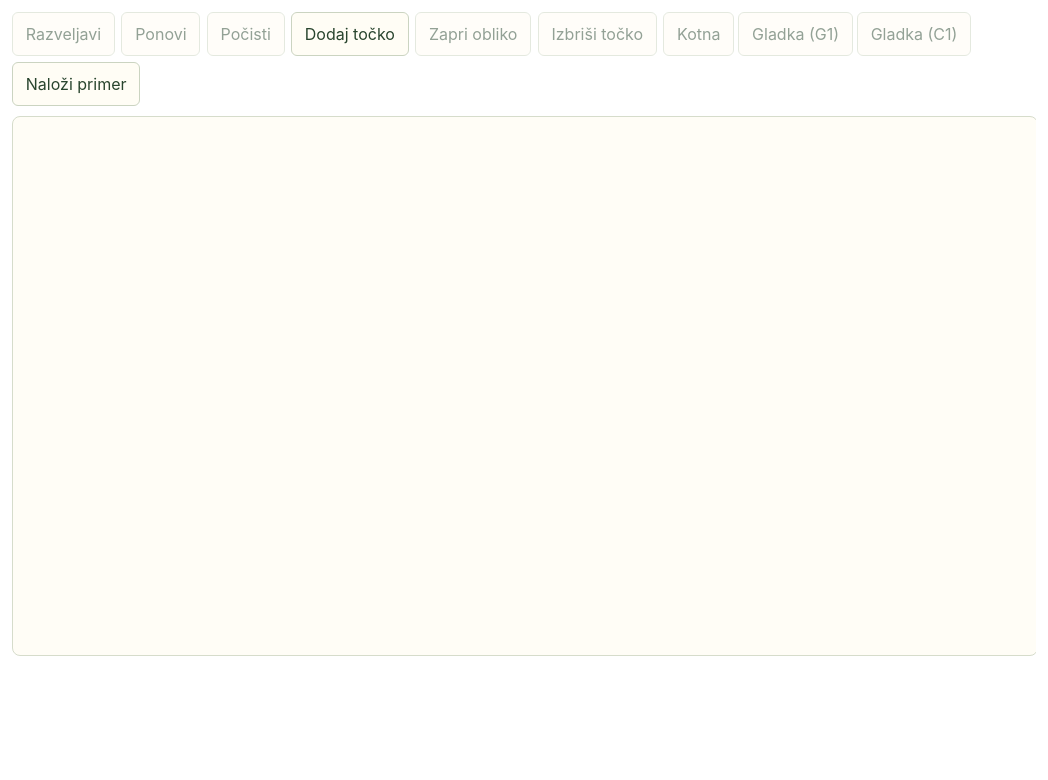
Scenario: localization › updates names, toolbar and live region when the language switches
Press the mouse on the icon named "Platno za risanje oblike" at (524, 386), box x1=12 y1=116 x2=1036 y2=656
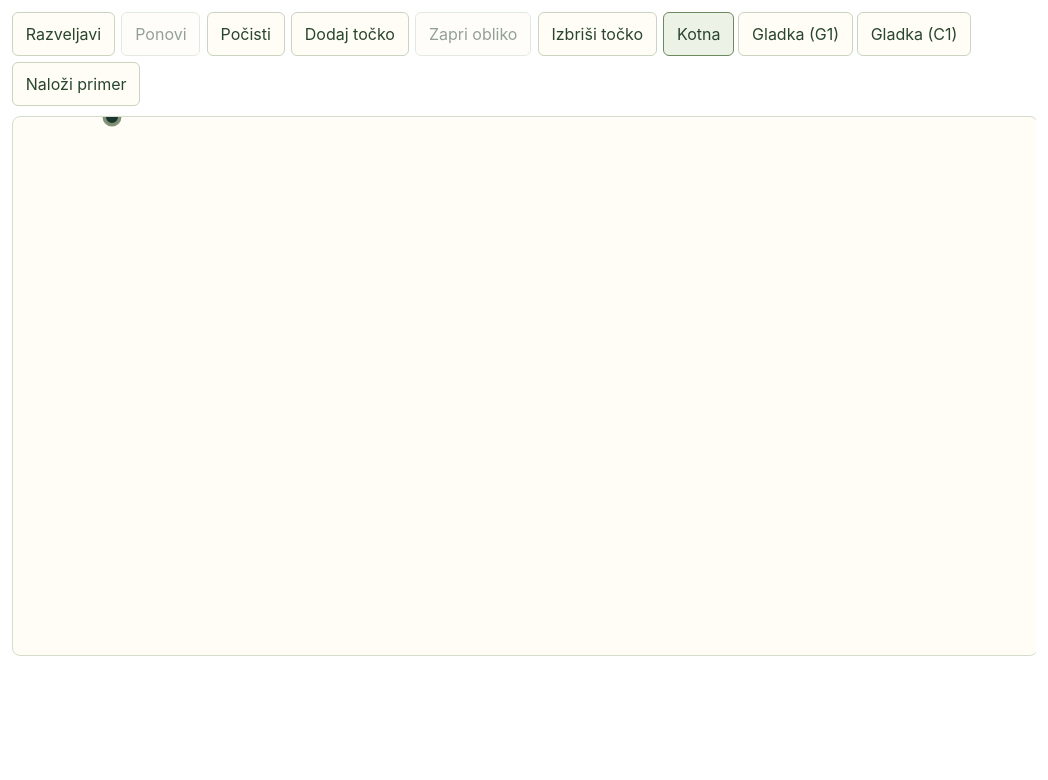
Press the mouse on the icon named "Platno za risanje oblike" at (524, 386), box x1=12 y1=116 x2=1036 y2=656
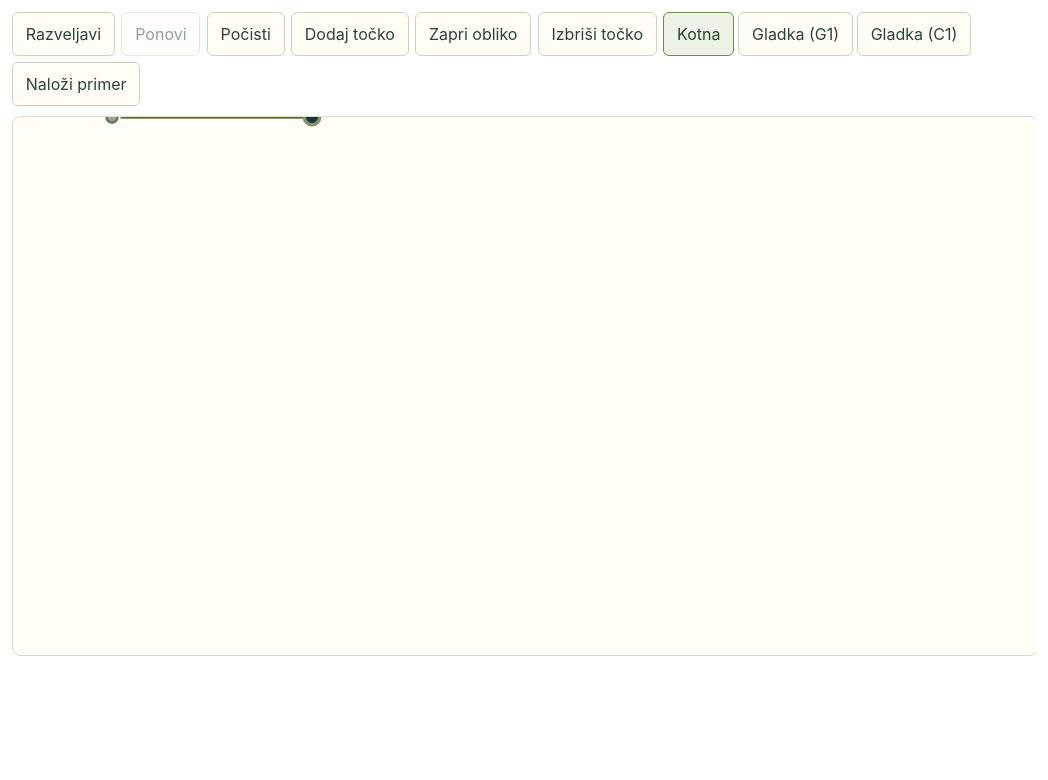
Press the mouse on the icon named "Platno za risanje oblike" at (524, 386), box x1=12 y1=116 x2=1036 y2=656
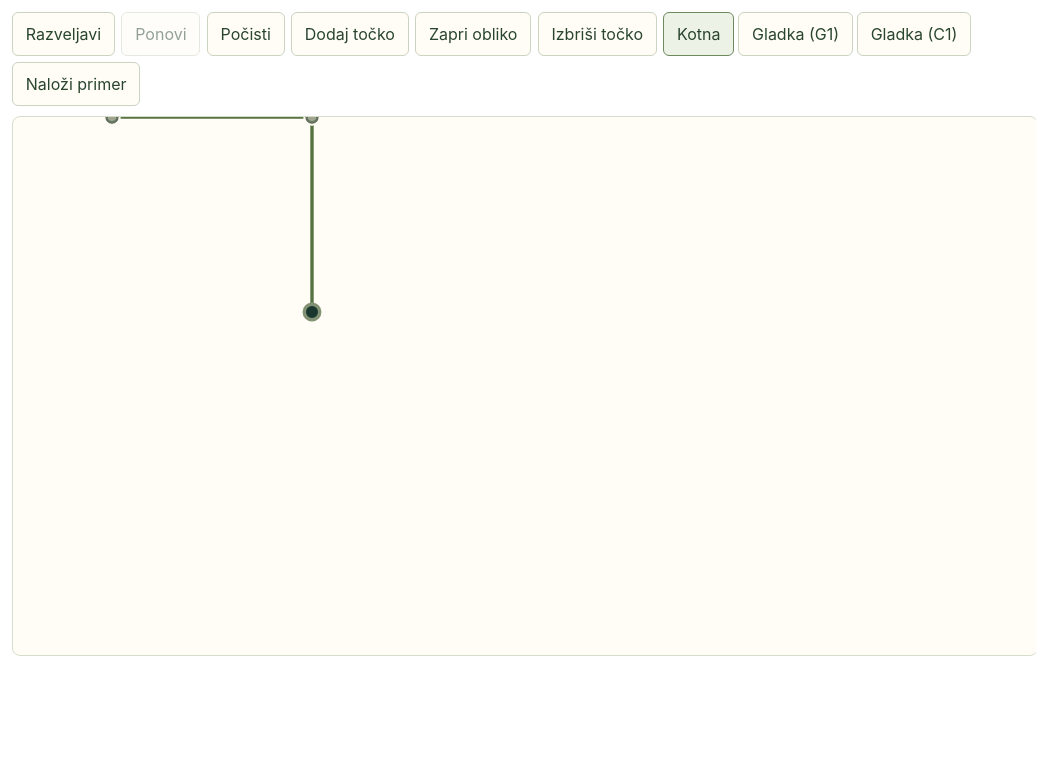
Click the button "Zapri obliko". click: (473, 34)
box: x1=415 y1=12 x2=531 y2=56
Wait 600 ms
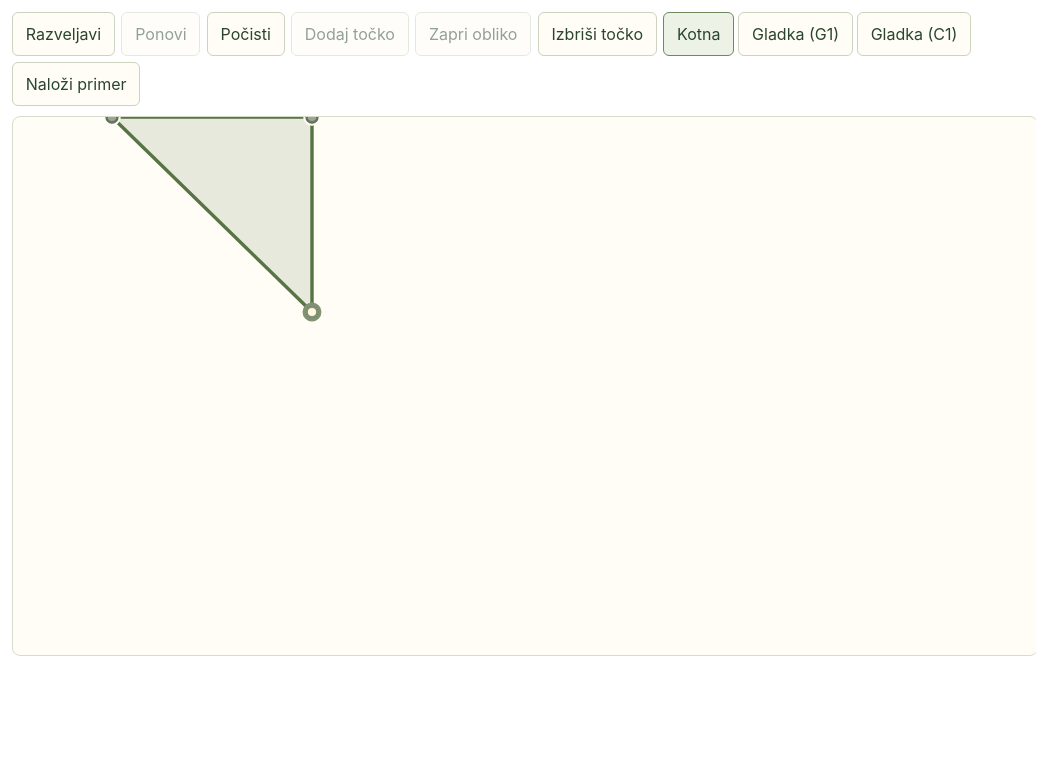
Click the button "Gladka (C1)". click: (914, 34)
box: x1=857 y1=12 x2=971 y2=56
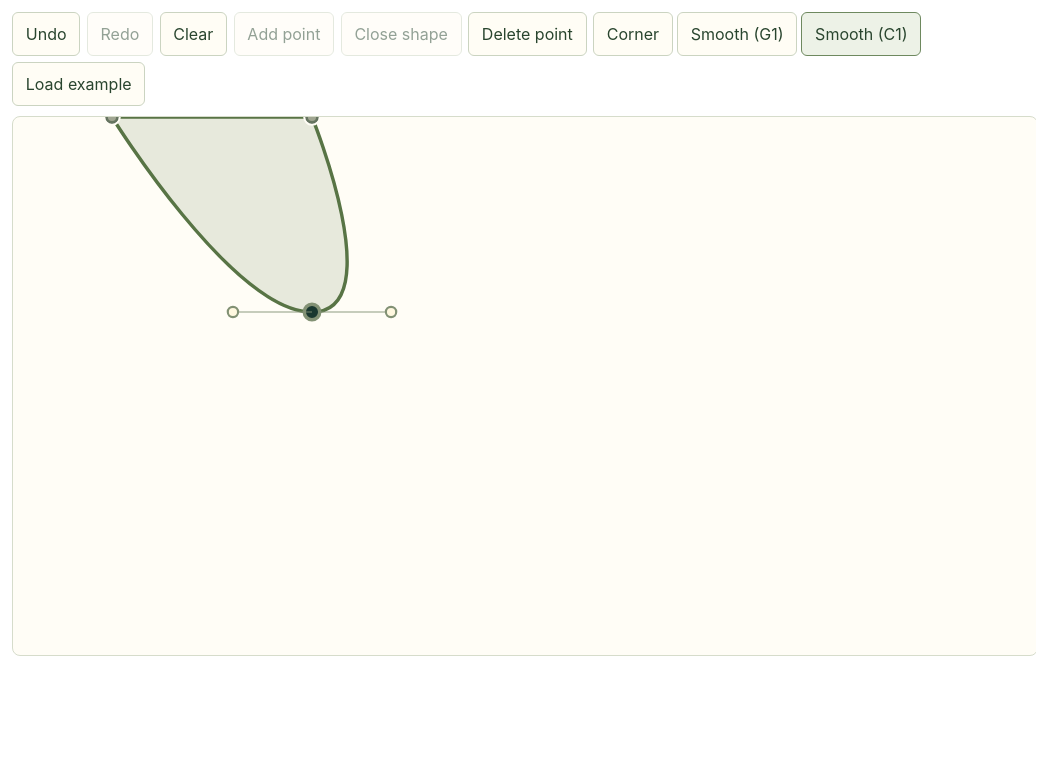
expect the button "Undo" is shown: met, box x1=12 y1=12 x2=80 y2=56
expect the button "Load example" is shown: met, box x1=12 y1=62 x2=145 y2=106
